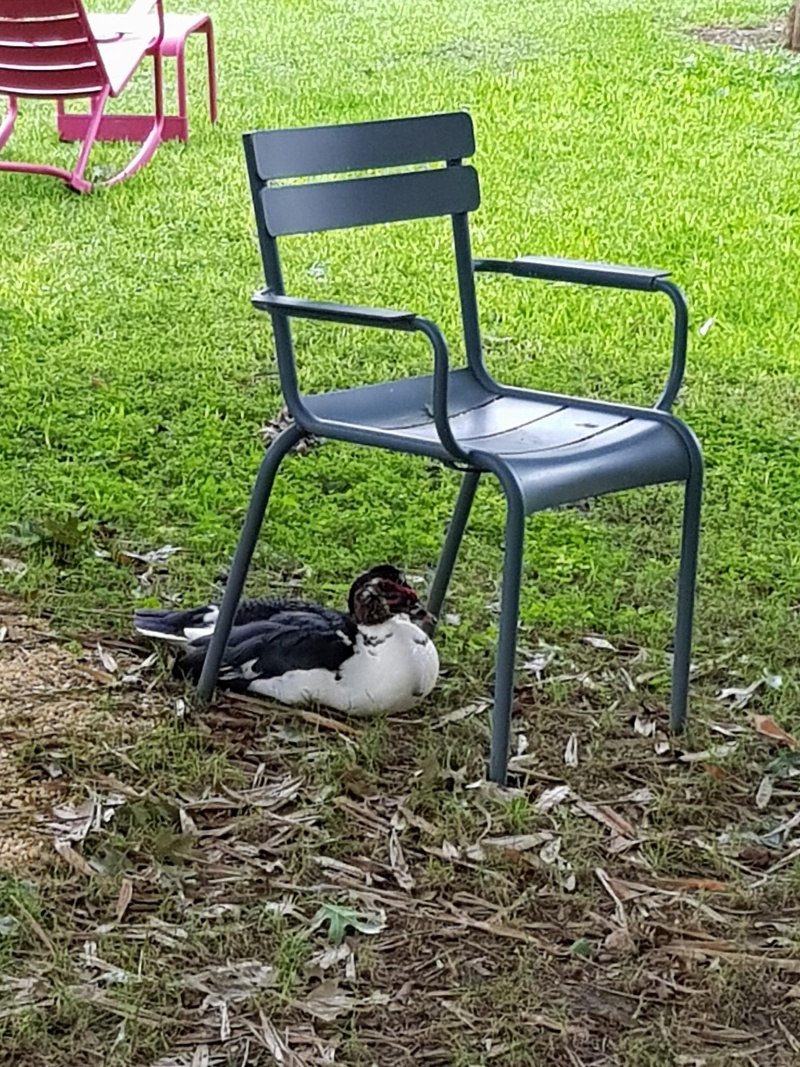pato: (238, 563, 428, 704)
